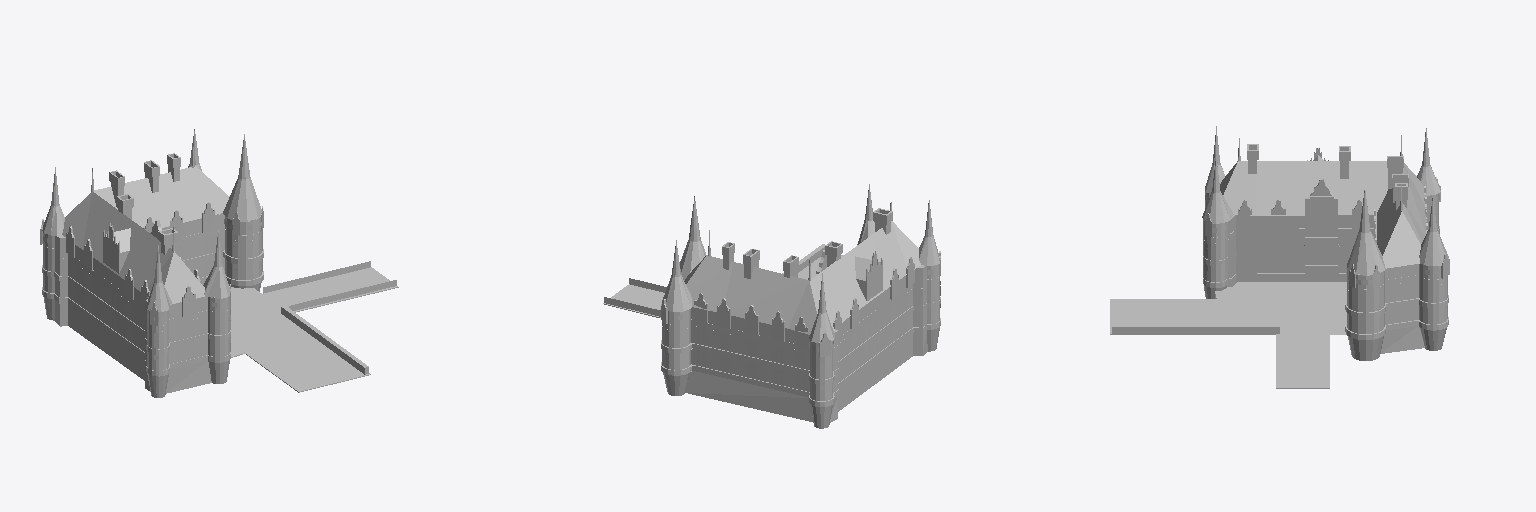
Rendered from build1.obj.
3 renders of one model, left to right at view 1: azimuth 30°, elevation 25°; view 2: azimuth 150°, elevation 25°; view 3: azimuth 270°, elevation 25°, orthographic.
Parts seen in each view (by area): view 1: Roof01, FLOOR, MAINWALL06, MAINWALL03, MAINWAL05, MAINWALL04, MAINWALL01, MAINWALL02, Roof02, HANDRAIL02, Roof06, Roof04 (+4 smaller); view 2: Roof01, MAINWALL06, MAINWALL03, MAINWAL05, MAINWALL04, MAINWALL01, MAINWALL02, FLOOR, Roof03, Roof02, Roof05, Roof04 (+1 smaller); view 3: FLOOR, Roof01, MAINWALL03, MAINWAL05, MAINWALL04, MAINWALL06, MAINWALL08, MAINWALL01, HANDRAIL02, Roof02, MAINWALL02, Roof03 (+2 smaller).
Boxes of the visible parts, box(x1,y1,x2,y2) form: Roof01: box(62, 166, 229, 303); FLOOR: box(229, 267, 398, 392); MAINWALL06: box(44, 282, 261, 397); MAINWALL03: box(43, 233, 262, 348); MAINWAL05: box(43, 256, 262, 370); MAINWALL04: box(42, 249, 263, 376); MAINWALL01: box(43, 213, 260, 325); MAINWALL02: box(43, 227, 262, 331); Roof02: box(223, 134, 261, 221); HANDRAIL02: box(281, 306, 368, 374); Roof06: box(203, 230, 229, 298); Roof04: box(42, 167, 64, 235); Roof01: box(684, 221, 920, 334); MAINWALL06: box(663, 328, 939, 428); MAINWALL03: box(662, 282, 939, 379); MAINWAL05: box(662, 305, 939, 400); MAINWALL04: box(661, 297, 940, 406); MAINWALL01: box(668, 264, 939, 355); MAINWALL02: box(662, 277, 939, 361); FLOOR: box(603, 255, 843, 317); Roof03: box(662, 240, 691, 311); Roof02: box(680, 196, 705, 280); Roof05: box(919, 200, 939, 265); Roof04: box(809, 273, 834, 342); FLOOR: box(1110, 282, 1346, 388); Roof01: box(1220, 161, 1426, 268); MAINWALL03: box(1203, 212, 1447, 312); MAINWAL05: box(1203, 257, 1447, 333); MAINWALL04: box(1203, 226, 1448, 339); MAINWALL06: box(1204, 279, 1446, 360); MAINWALL08: box(1304, 178, 1339, 281); MAINWALL01: box(1203, 191, 1441, 288); HANDRAIL02: box(1112, 325, 1279, 333); Roof02: box(1347, 190, 1385, 275); MAINWALL02: box(1203, 204, 1447, 294); Roof03: box(1419, 198, 1448, 265).
Bounding box in the file's own units: 7375 × 4224 × 7714.